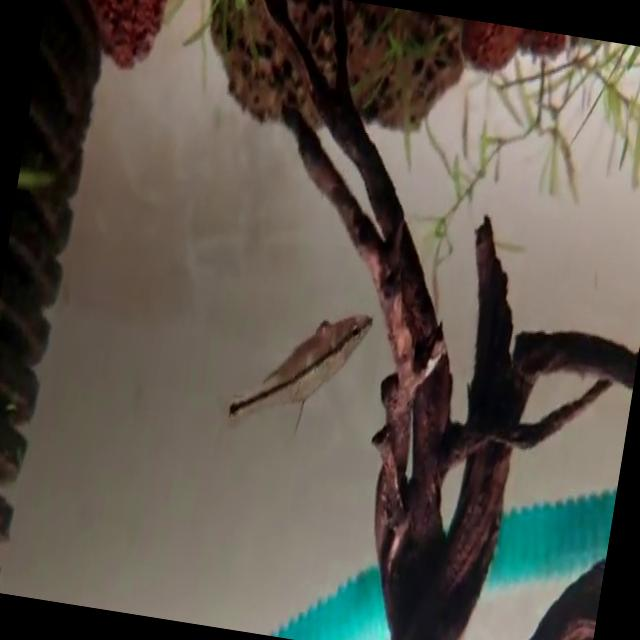Cakil Baligi: (221, 296, 375, 456)
